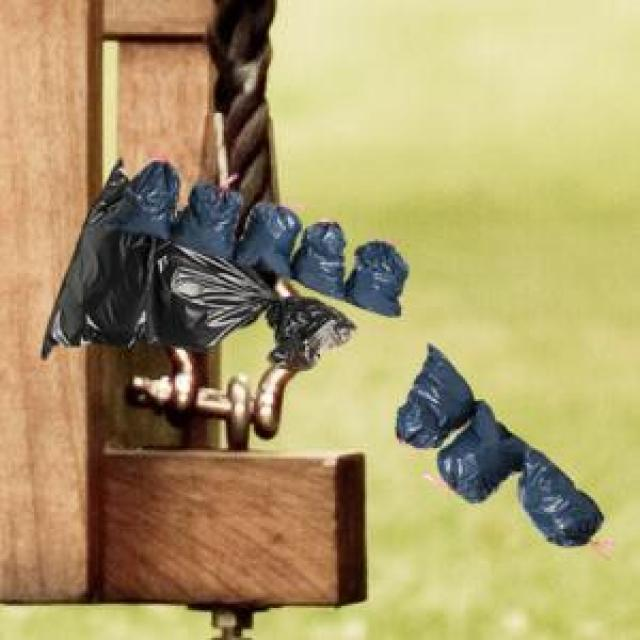Trashbag: (60, 250, 248, 354), (518, 448, 604, 552), (445, 409, 525, 505), (388, 352, 472, 438), (101, 157, 180, 242), (343, 238, 410, 320), (175, 183, 241, 262), (236, 202, 302, 277), (290, 217, 351, 298)
